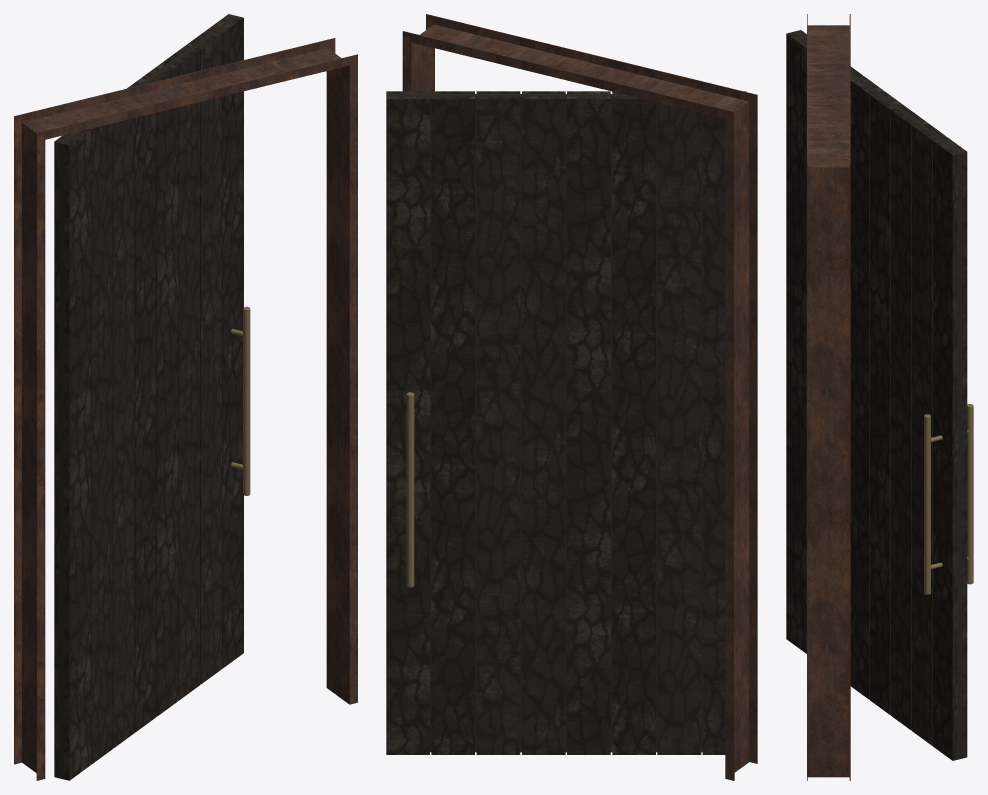
The model's file is puerta_pivotante.glb.
3 renders of one model, left to right at view 1: azimuth 30°, elevation 25°; view 2: azimuth 150°, elevation 25°; view 3: azimuth 270°, elevation 25°, orthographic. The views are drawn at different scales.
Parts seen in each view (by area): view 1: PuertaPivotanteHoja, PuertaPivotanteMarco, PuertaPivotanteTirador; view 2: PuertaPivotanteHoja, PuertaPivotanteMarco, PuertaPivotanteTirador; view 3: PuertaPivotanteHoja, PuertaPivotanteMarco, PuertaPivotanteTirador.
Boxes of the visible parts, x1,y1,x2,y2 form: PuertaPivotanteHoja: (54,14,243,780); PuertaPivotanteMarco: (14,38,357,780); PuertaPivotanteTirador: (231,306,250,495); PuertaPivotanteHoja: (386,91,746,754); PuertaPivotanteMarco: (402,14,757,780); PuertaPivotanteTirador: (406,392,414,587); PuertaPivotanteHoja: (786,30,967,760); PuertaPivotanteMarco: (807,14,850,780); PuertaPivotanteTirador: (924,404,973,594).
Bounding box in the file's own units: 1.26 × 2.43 × 0.6672.
4 materials, 2 textured.
